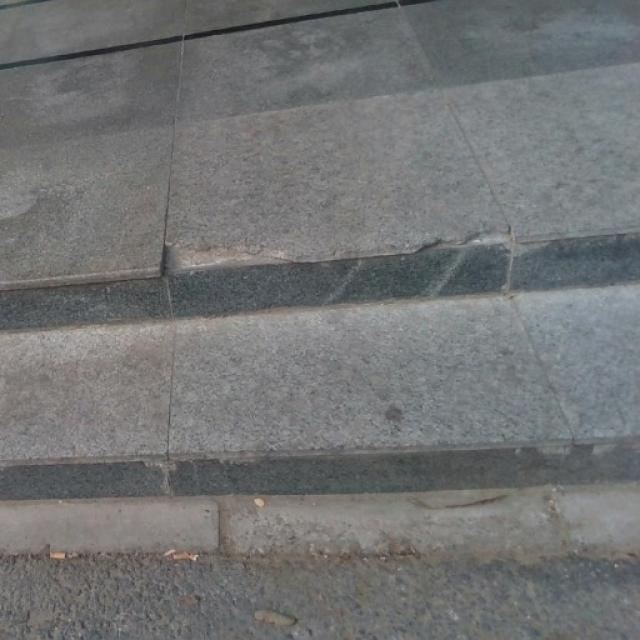Stairs: (0, 227, 639, 562)
